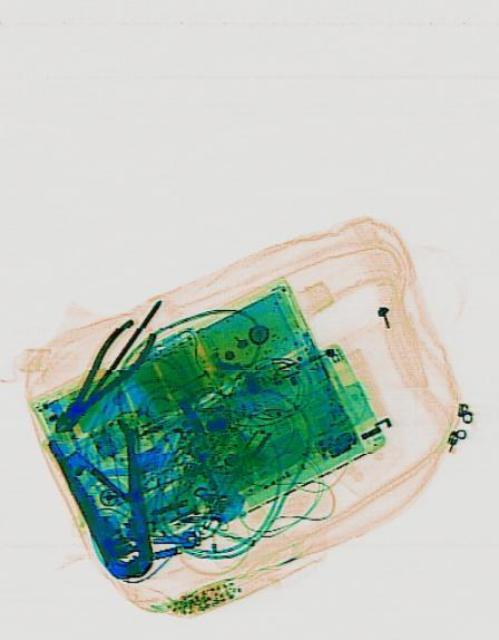Pliers: (44, 406, 169, 594), (41, 306, 161, 448)
